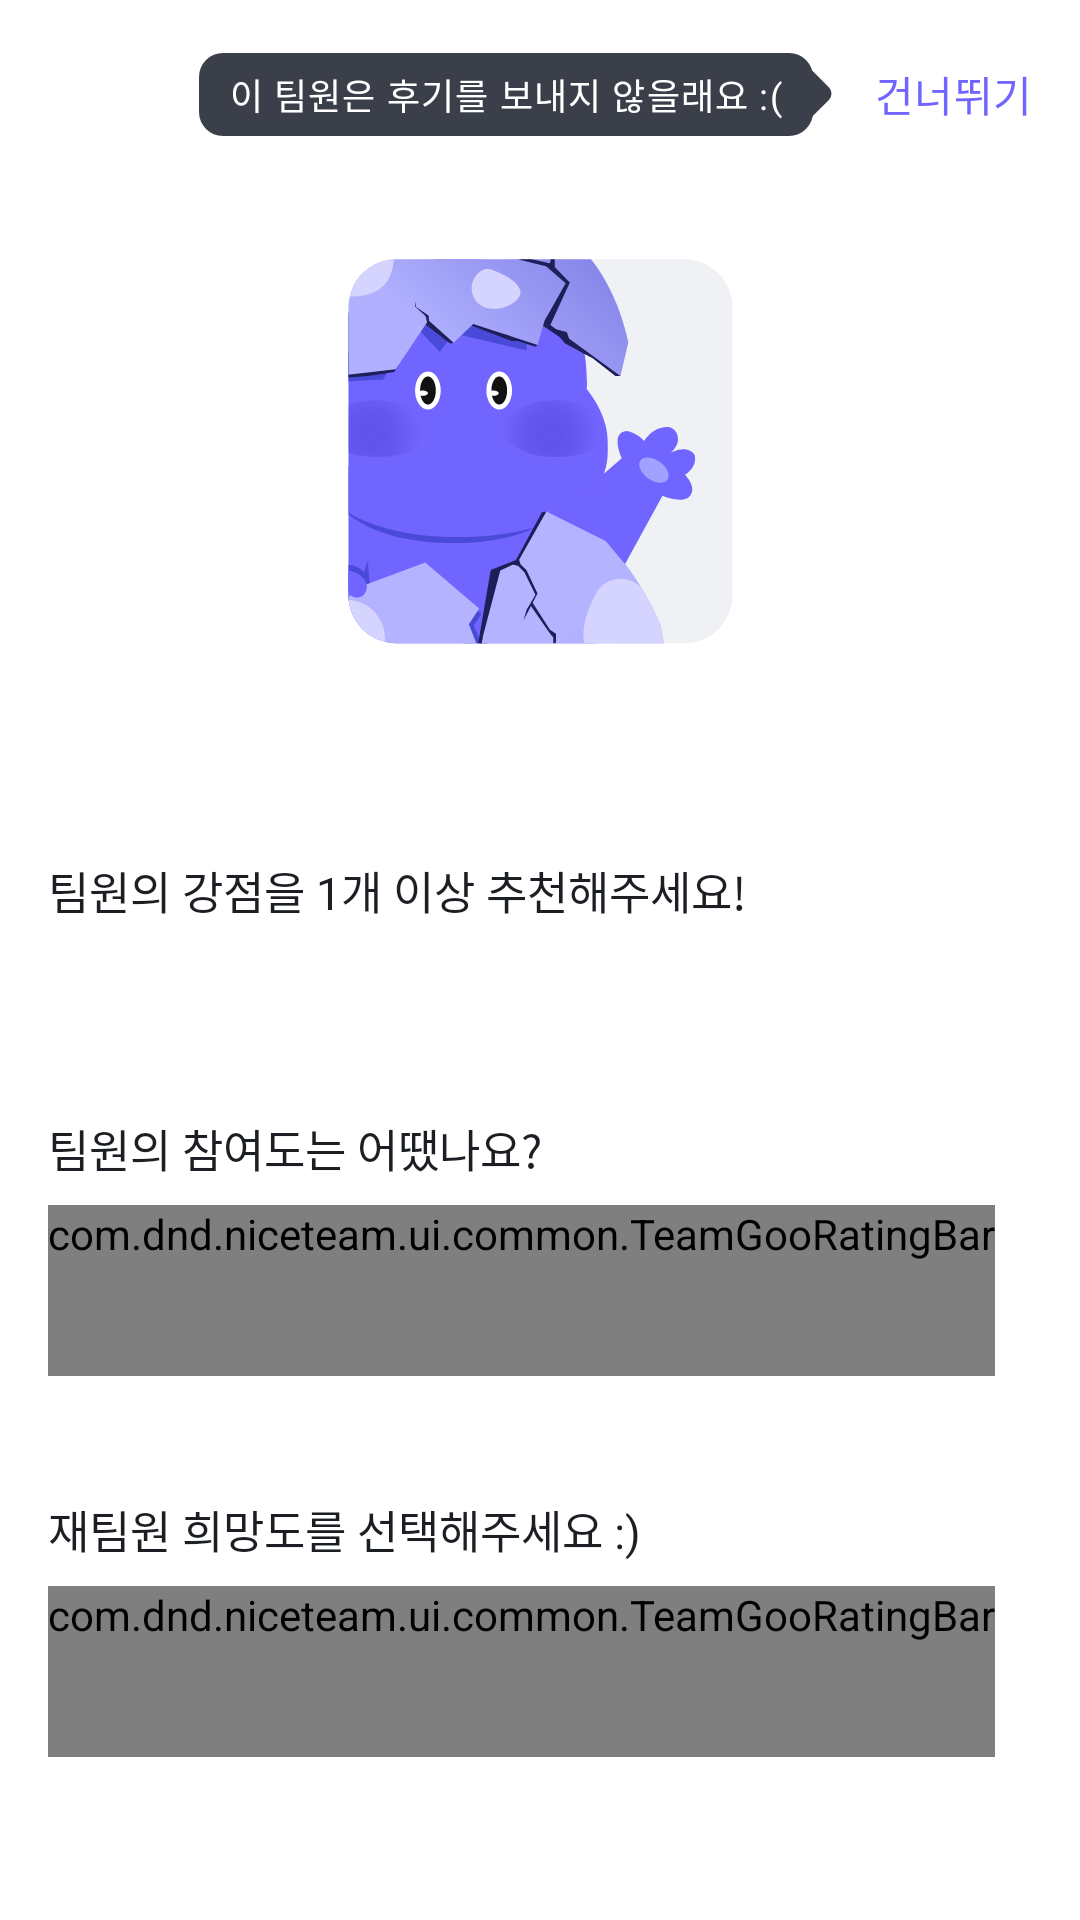

Icons on this 1080px×1920px Android screen, each with the point to tap as point (x, y):
balloon tail right: point (817, 94)
